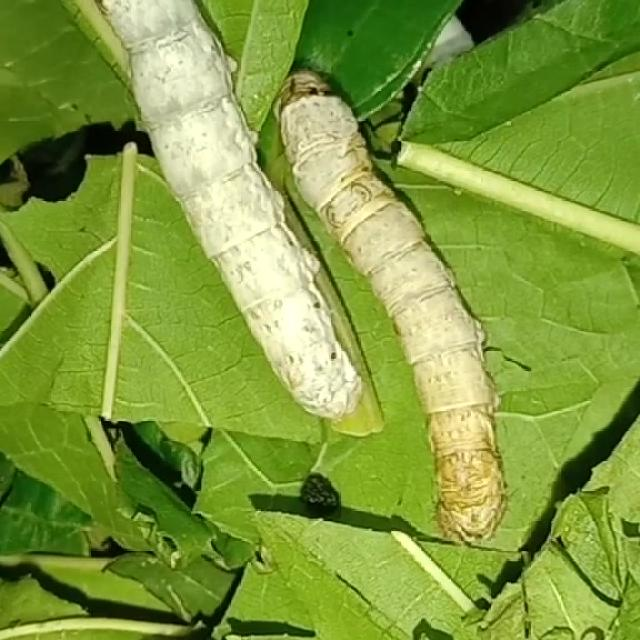Grasserie: (271, 69, 554, 562)
